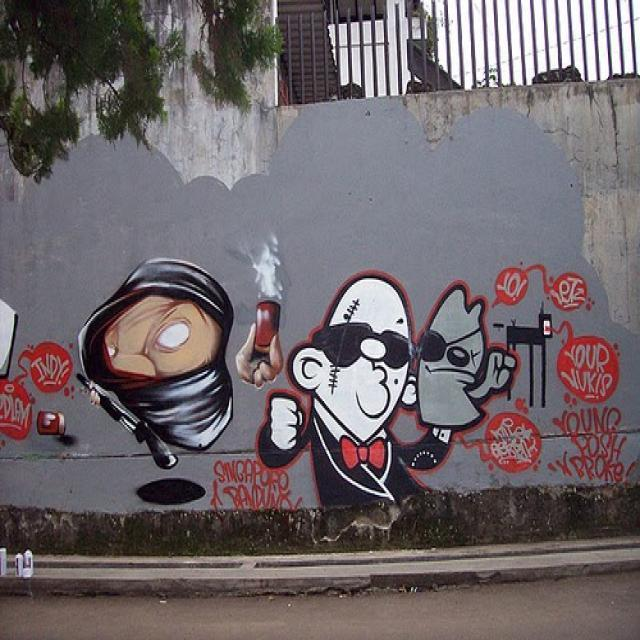-: (255, 267, 638, 507), (80, 257, 232, 507), (0, 296, 75, 448), (236, 237, 284, 386), (208, 460, 304, 510)
